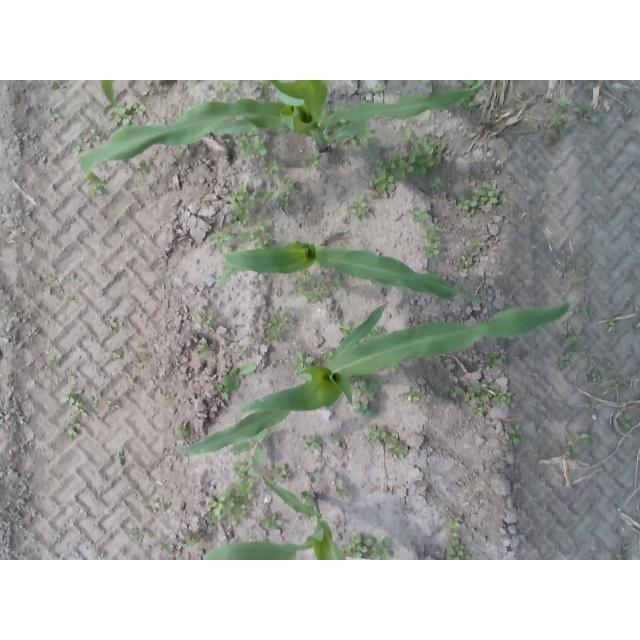Maize: (176, 302, 573, 455), (79, 80, 485, 193), (214, 241, 490, 307), (201, 472, 348, 561)
Weeds: (377, 129, 447, 192), (208, 481, 252, 525), (471, 378, 514, 419), (367, 424, 410, 457), (232, 442, 269, 470), (219, 363, 259, 386), (232, 188, 278, 206), (445, 532, 471, 560), (236, 138, 264, 161), (347, 535, 374, 558), (266, 317, 289, 340), (372, 537, 393, 560), (233, 458, 256, 478), (360, 379, 384, 398), (477, 186, 503, 203), (575, 105, 598, 124), (60, 386, 84, 404), (111, 104, 131, 125), (351, 195, 369, 217), (312, 277, 329, 300), (261, 513, 281, 531), (289, 352, 311, 368), (445, 382, 464, 400), (567, 325, 586, 343), (401, 388, 423, 403), (568, 433, 590, 448), (354, 401, 374, 417), (551, 114, 570, 130), (65, 420, 83, 436), (219, 83, 237, 99), (209, 232, 231, 245), (409, 207, 428, 222), (184, 534, 205, 547), (234, 210, 251, 226), (275, 467, 293, 482), (303, 437, 321, 452), (510, 426, 523, 446), (453, 199, 476, 210), (425, 230, 443, 244), (257, 236, 276, 249), (201, 342, 218, 356), (306, 291, 321, 306), (257, 81, 272, 96), (617, 412, 631, 428), (146, 501, 162, 515), (266, 159, 279, 176), (333, 277, 348, 291), (133, 102, 147, 117), (358, 132, 373, 146), (88, 187, 103, 201), (139, 160, 153, 175), (106, 315, 119, 331), (446, 516, 463, 528), (236, 231, 256, 241), (179, 421, 190, 439), (425, 244, 440, 257), (115, 449, 126, 466), (46, 356, 60, 369), (562, 352, 573, 368), (461, 256, 475, 268), (559, 96, 573, 108), (107, 398, 121, 410), (139, 353, 154, 364), (333, 486, 348, 497), (310, 468, 321, 483), (132, 529, 143, 544), (281, 178, 292, 192), (282, 192, 293, 206), (292, 277, 303, 291), (331, 437, 345, 448), (579, 303, 590, 317), (219, 391, 233, 402), (236, 345, 248, 357), (201, 315, 215, 325), (76, 407, 88, 418), (609, 320, 620, 332), (128, 375, 140, 386), (576, 273, 589, 283), (476, 241, 487, 252), (591, 372, 601, 384), (257, 223, 268, 233), (486, 356, 497, 366), (49, 112, 60, 121), (310, 160, 319, 170), (463, 100, 473, 109), (623, 540, 630, 552), (114, 351, 123, 360), (632, 304, 639, 313), (617, 553, 623, 560)
